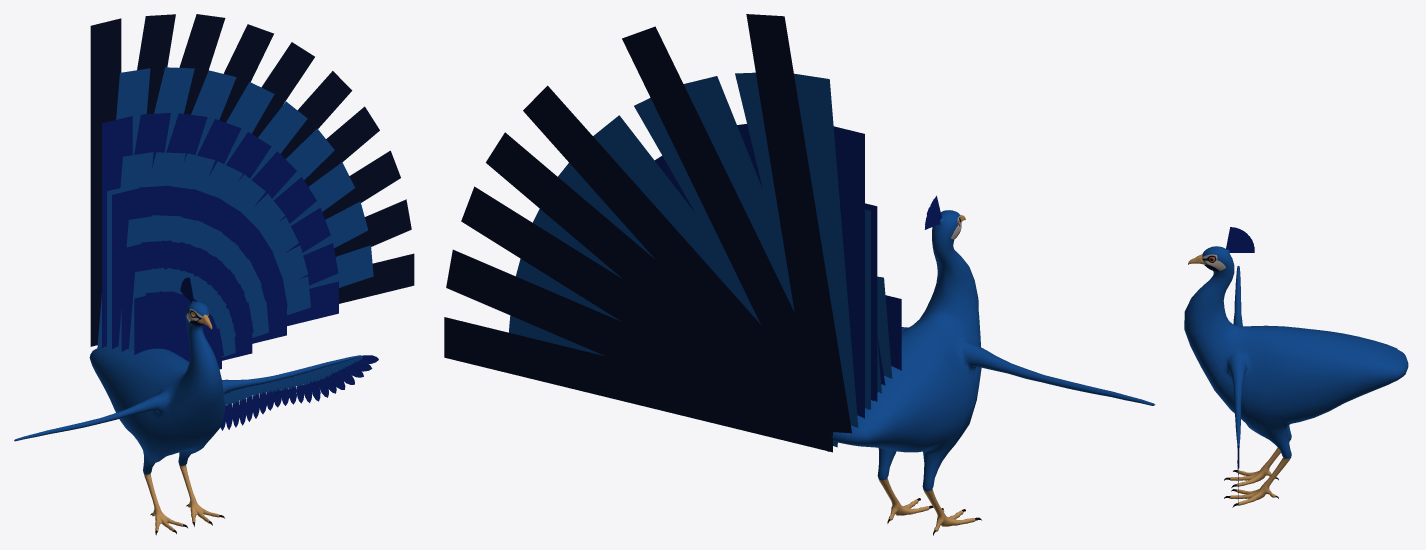
The model's file is peacock.obj.
3 views of the same model, side by side, from view 1: azimuth 30°, elevation 25°; view 2: azimuth 150°, elevation 25°; view 3: azimuth 270°, elevation 25° (orthographic). The views are drawn at different scales.
Parts seen in each view (by area): view 1: peacock, plane_01_010, plane_03_010, plane_01_009, plane_05_010, plane_01_008, plane_01_007, plane_01_006, plane_01_001, plane_01_005, plane_01_004, plane_01_003 (+55 smaller); view 2: peacock, plane_01_004, plane_01_009, plane_01_007, plane_01_002, plane_01_005, plane_01_001, plane_01_003, plane_02_009, plane_02_007, plane_02_005, plane_03_010 (+10 smaller); view 3: peacock.
Part boxes in pixels (left/top/right/bottom): peacock: left=14, top=301, right=361, bottom=535; plane_01_010: left=90, top=18, right=121, bottom=346; plane_03_010: left=102, top=116, right=132, bottom=347; plane_01_009: left=92, top=14, right=175, bottom=345; plane_05_010: left=112, top=187, right=142, bottom=349; plane_01_008: left=92, top=14, right=225, bottom=341; plane_01_007: left=219, top=24, right=273, bottom=122; plane_01_006: left=252, top=42, right=314, bottom=137; plane_01_001: left=339, top=253, right=414, bottom=303; plane_01_005: left=280, top=71, right=352, bottom=158; plane_01_004: left=304, top=106, right=379, bottom=186; plane_01_003: left=322, top=150, right=400, bottom=219; peacock: left=831, top=210, right=1155, bottom=535; plane_01_004: left=486, top=132, right=841, bottom=447; plane_01_009: left=746, top=14, right=851, bottom=433; plane_01_007: left=622, top=26, right=849, bottom=431; plane_01_002: left=446, top=249, right=831, bottom=451; plane_01_005: left=523, top=85, right=845, bottom=431; plane_01_001: left=444, top=317, right=832, bottom=452; plane_01_003: left=461, top=186, right=839, bottom=433; plane_02_009: left=794, top=73, right=858, bottom=427; plane_02_007: left=683, top=76, right=854, bottom=424; plane_02_005: left=593, top=115, right=852, bottom=418; plane_03_010: left=833, top=126, right=864, bottom=418; peacock: left=1184, top=246, right=1408, bottom=507.
Bounding box in the file's own units: 1.59 × 1.4 × 0.6144.
